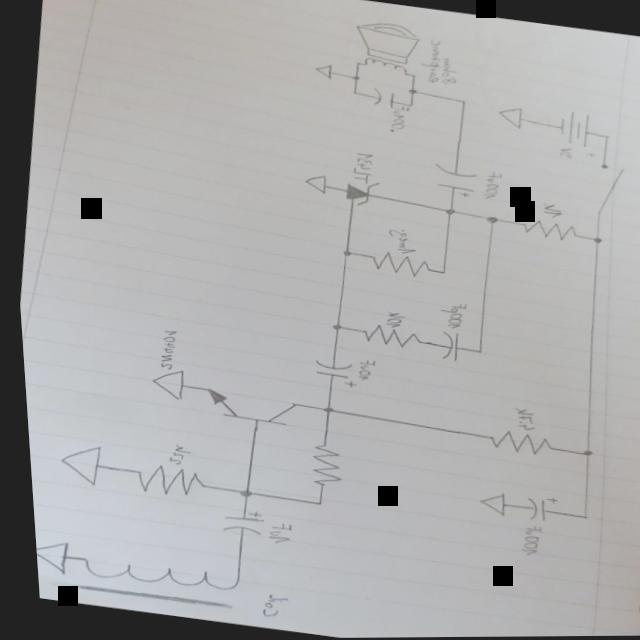capacitor: (427, 162, 479, 201), (209, 507, 260, 539), (305, 359, 356, 390), (516, 494, 552, 527), (432, 331, 459, 367), (369, 88, 394, 110)
ground: (48, 441, 100, 488), (140, 365, 184, 404), (28, 537, 65, 576), (469, 491, 501, 518), (494, 105, 524, 132), (299, 173, 327, 196), (311, 63, 334, 82)
inductor: (63, 550, 240, 614)
junction: (228, 487, 249, 502), (573, 448, 591, 460), (480, 216, 498, 227), (336, 249, 352, 261), (324, 323, 341, 334), (586, 237, 602, 248), (315, 406, 331, 417), (440, 207, 455, 218), (305, 500, 321, 510), (571, 513, 585, 523), (468, 348, 481, 357), (405, 90, 417, 97), (599, 135, 610, 142), (350, 75, 359, 82), (435, 270, 444, 277), (458, 100, 467, 106), (350, 92, 357, 97), (405, 105, 412, 110)
resistor: (125, 461, 203, 502), (298, 442, 343, 491), (480, 429, 551, 459), (354, 323, 421, 354), (365, 251, 431, 281), (517, 218, 578, 246)
source: (551, 110, 600, 161)
switch: (587, 163, 627, 221)
text: (150, 328, 178, 373), (419, 39, 445, 85), (430, 300, 464, 334), (381, 227, 417, 257), (249, 593, 285, 623), (346, 151, 374, 187), (510, 524, 537, 560), (258, 520, 288, 548), (504, 407, 534, 434), (478, 171, 503, 203), (385, 105, 410, 137), (437, 58, 461, 88), (348, 358, 372, 386), (159, 444, 187, 468), (377, 310, 403, 332), (536, 202, 563, 221), (555, 148, 574, 162)
thyristor: (341, 179, 379, 210)
transistor: (195, 384, 300, 431)
